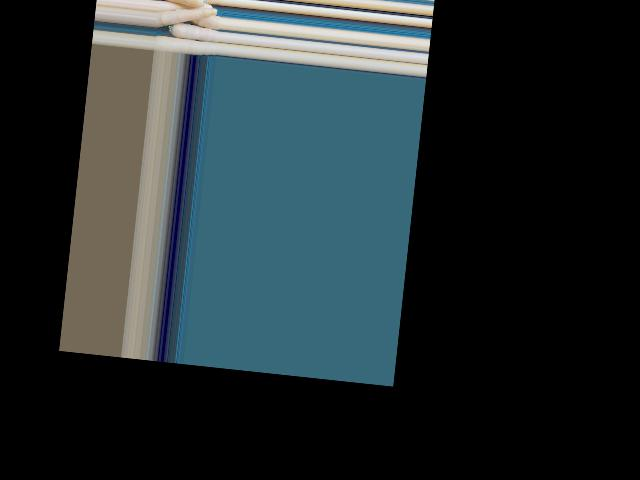carrot: (156, 35, 219, 56)
